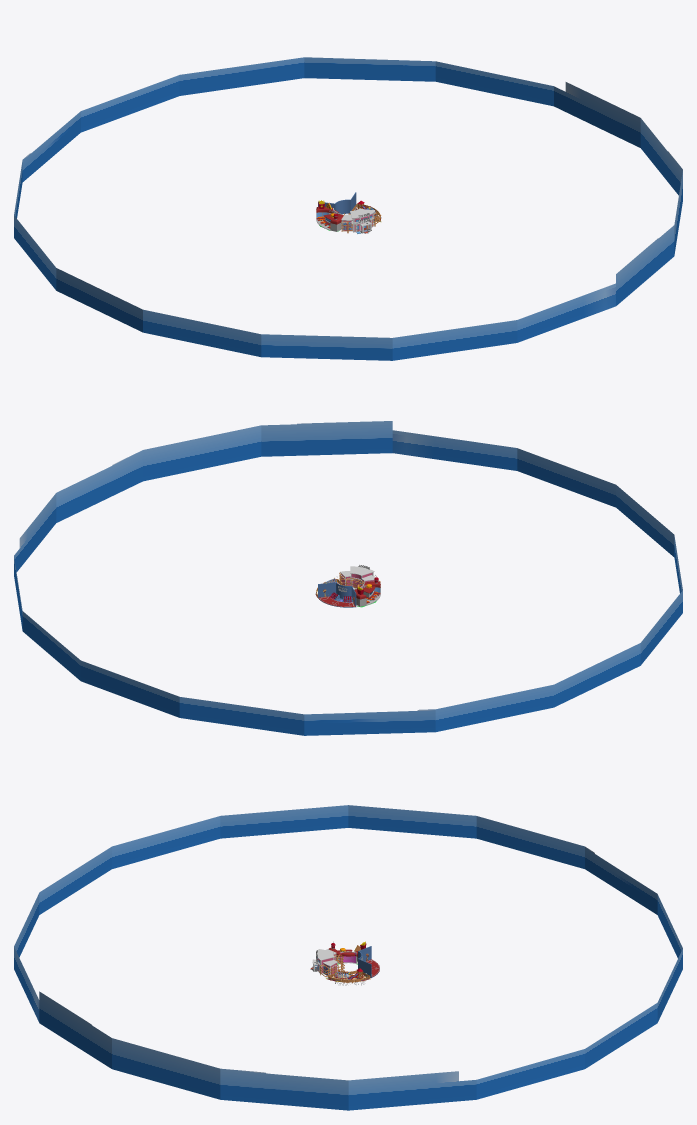
Rendered from Meta.fbx.
The picture shows the model from 3 angles, top to bottom: view 1: azimuth 30°, elevation 25°; view 2: azimuth 150°, elevation 25°; view 3: azimuth 270°, elevation 25°; orthographic projection.
Visible parts, largest first — view 1: Buildings; view 2: Buildings, School Arena 4; view 3: Buildings.
Part boxes in pixels (x1,y1,x2,y2): Buildings: (14,57,682,360); Buildings: (14,421,682,735); School Arena 4: (318,582,356,607); Buildings: (14,805,682,1110).
Size of what is drawn, in the model's own units: 14419 by 1637 by 14419.
